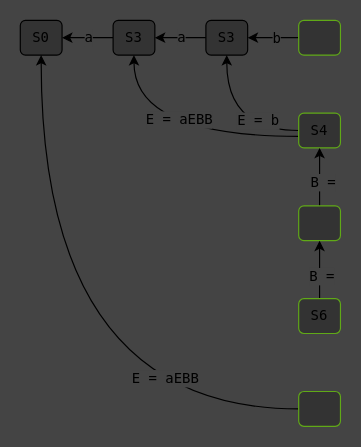
The diagram is 361 pixels wide and 447 high, and some of its shapes have lost their labels. The centre of each missing label's shape, as x and y in pixels:
"S1" belongs at point 319,408.
"S2" belongs at point 319,37.
"S5" belongs at point 319,223.
